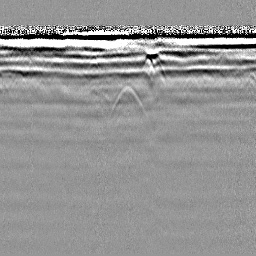cavity: (109, 83, 147, 118)
